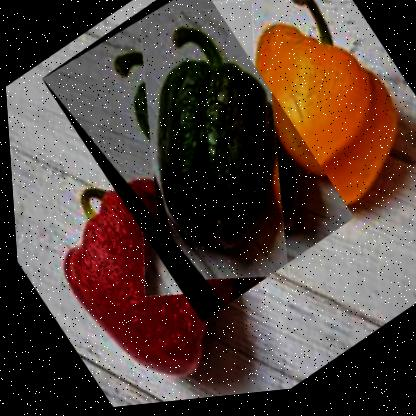capsicum_rotten: (36, 0, 358, 338)
